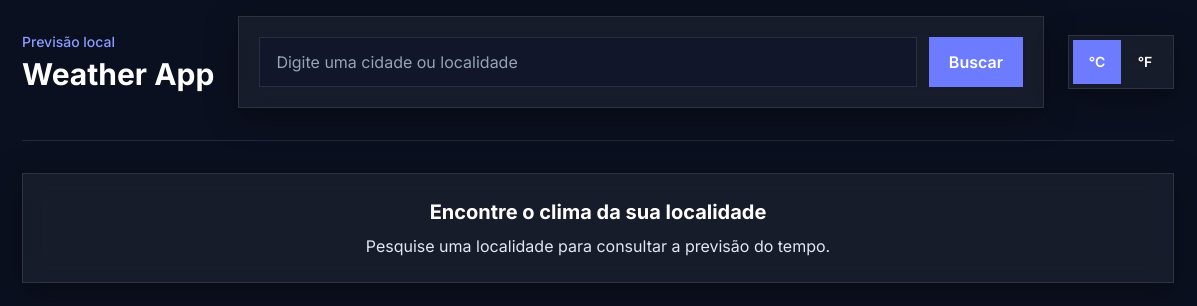
Test: App › renderiza empty quando a busca não encontra localidades
Type "Inexistente" into the search field named "Pesquisar localidade". click: (588, 62)
box: [259,37,917,87]
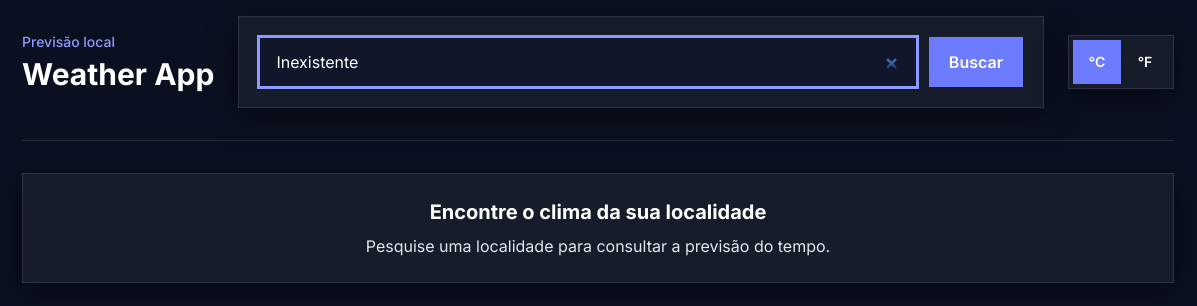
Click the button "Buscar". click: click(976, 62)
box: [929,37,1023,87]
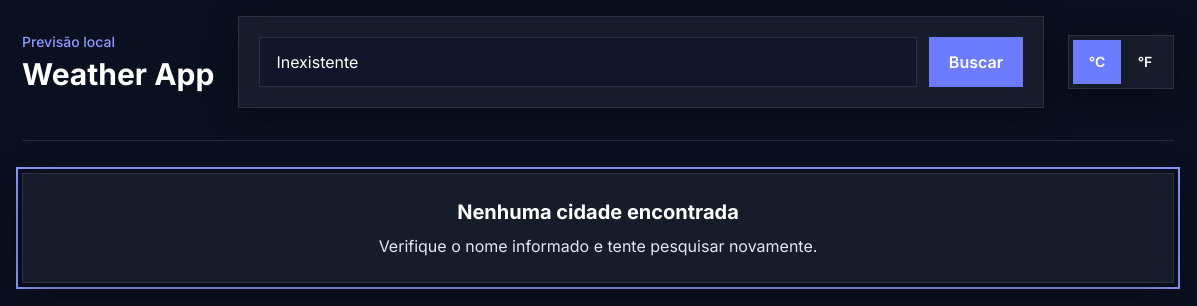
Result: the heading "Nenhuma cidade encontrada" is shown at [457,200,739,224]
